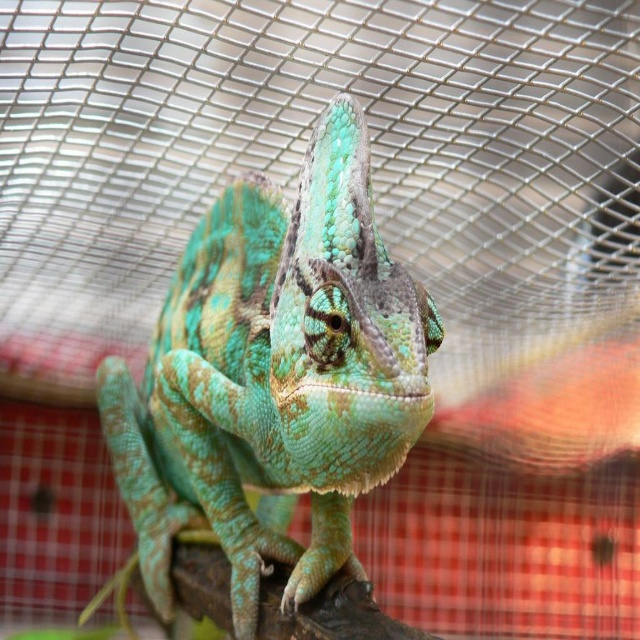Lizard: (80, 103, 458, 640)
